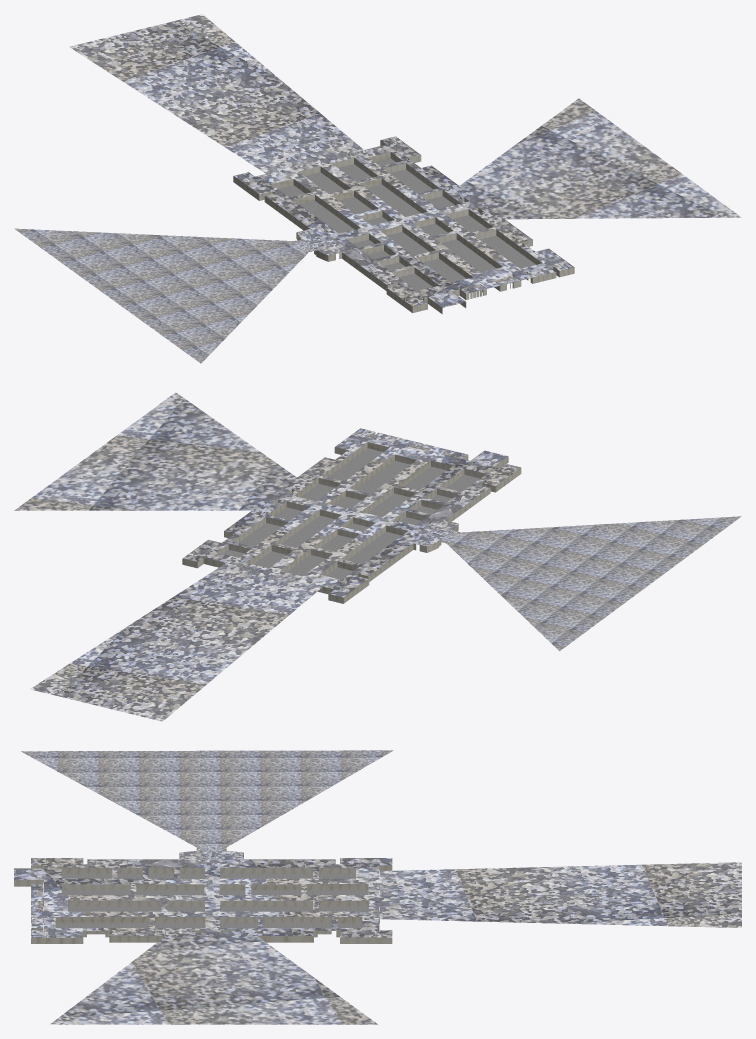
The model's file is port2.dae.
3 views of the same model, one above another, from view 1: azimuth 30°, elevation 25°; view 2: azimuth 150°, elevation 25°; view 3: azimuth 270°, elevation 25° (orthographic).
Visible parts, largest first — view 1: Curve_008; view 2: Curve_008; view 3: Curve_008.
Part boxes in pixels (<box>): Curve_008: <box>14,14,741,363</box>; Curve_008: <box>14,392,741,721</box>; Curve_008: <box>14,750,741,1024</box>.
Size of the model in its own units: 189 by 212 by 2.02.
Materials: 4 (3 with a texture image).
